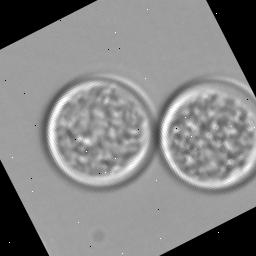picoshell: (43, 73, 157, 186), (160, 79, 256, 190)
